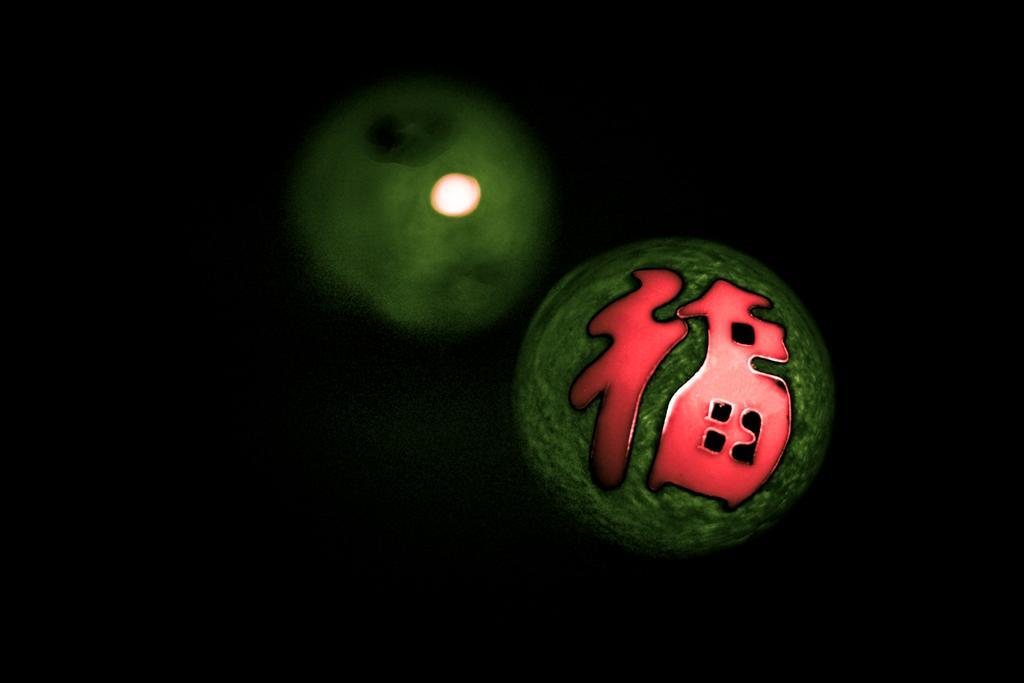Ball: (513, 238, 837, 556)
